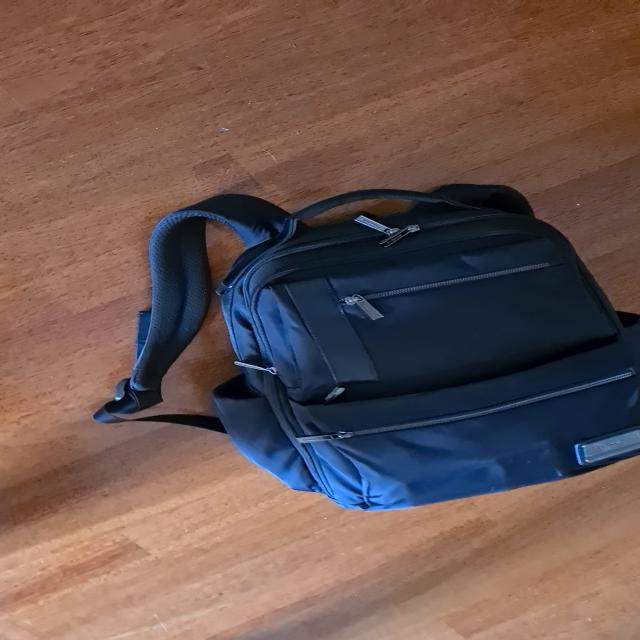backpack: (164, 167, 640, 522)
